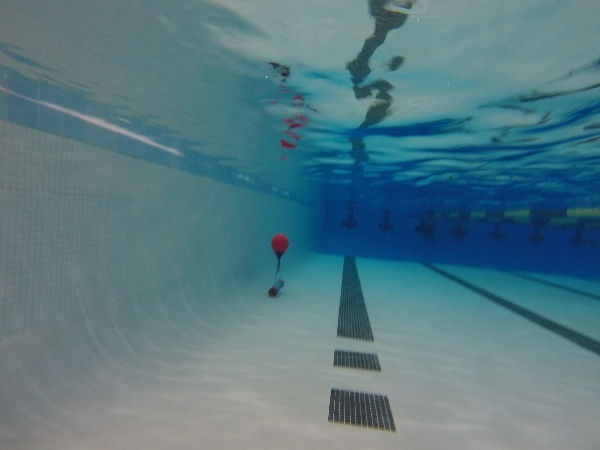buoy_red: (269, 230, 291, 260)
